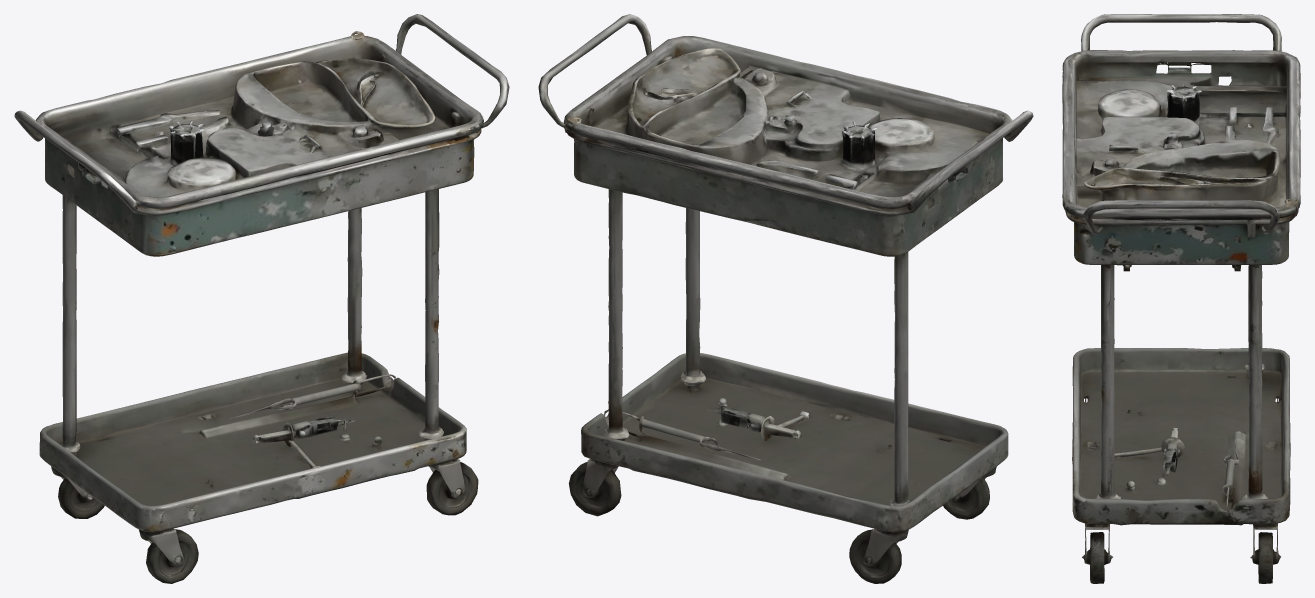
The model's file is medical_cart.glb.
3 renders of one model, left to right at view 1: azimuth 30°, elevation 25°; view 2: azimuth 150°, elevation 25°; view 3: azimuth 270°, elevation 25°, orthographic. The views are drawn at different scales.
Parts seen in each view (by area): view 1: tripo_node_12adf6f3-88e6-49d8-8609-388eb0e3ac88; view 2: tripo_node_12adf6f3-88e6-49d8-8609-388eb0e3ac88; view 3: tripo_node_12adf6f3-88e6-49d8-8609-388eb0e3ac88.
Boxes of the visible parts, x1,y1,x2,y2 form: tripo_node_12adf6f3-88e6-49d8-8609-388eb0e3ac88: (14, 14, 509, 583); tripo_node_12adf6f3-88e6-49d8-8609-388eb0e3ac88: (538, 14, 1033, 583); tripo_node_12adf6f3-88e6-49d8-8609-388eb0e3ac88: (1062, 14, 1300, 583).
Bounding box in the file's own units: 1 × 0.9983 × 0.5308.
Materials: 1 (1 with a texture image).
